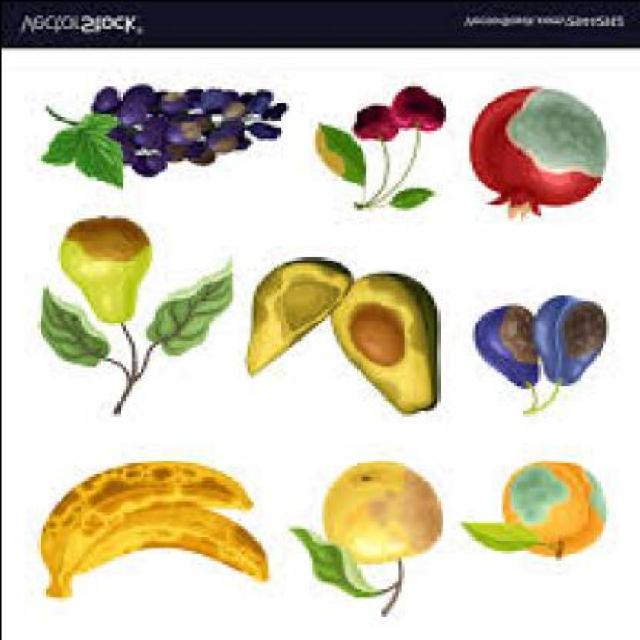BIODEGRADABLE: (36, 461, 250, 599), (56, 508, 264, 600), (86, 84, 282, 178), (465, 88, 601, 223), (326, 274, 436, 418), (242, 261, 350, 376), (320, 462, 438, 563), (498, 462, 602, 563), (56, 217, 146, 325), (142, 269, 232, 357), (530, 297, 604, 388), (38, 107, 118, 190), (287, 528, 373, 602), (472, 305, 533, 392), (36, 290, 104, 368), (344, 302, 399, 366), (310, 124, 362, 187), (456, 522, 536, 552), (385, 88, 430, 132), (349, 107, 394, 142), (388, 187, 432, 208), (415, 99, 442, 132)
